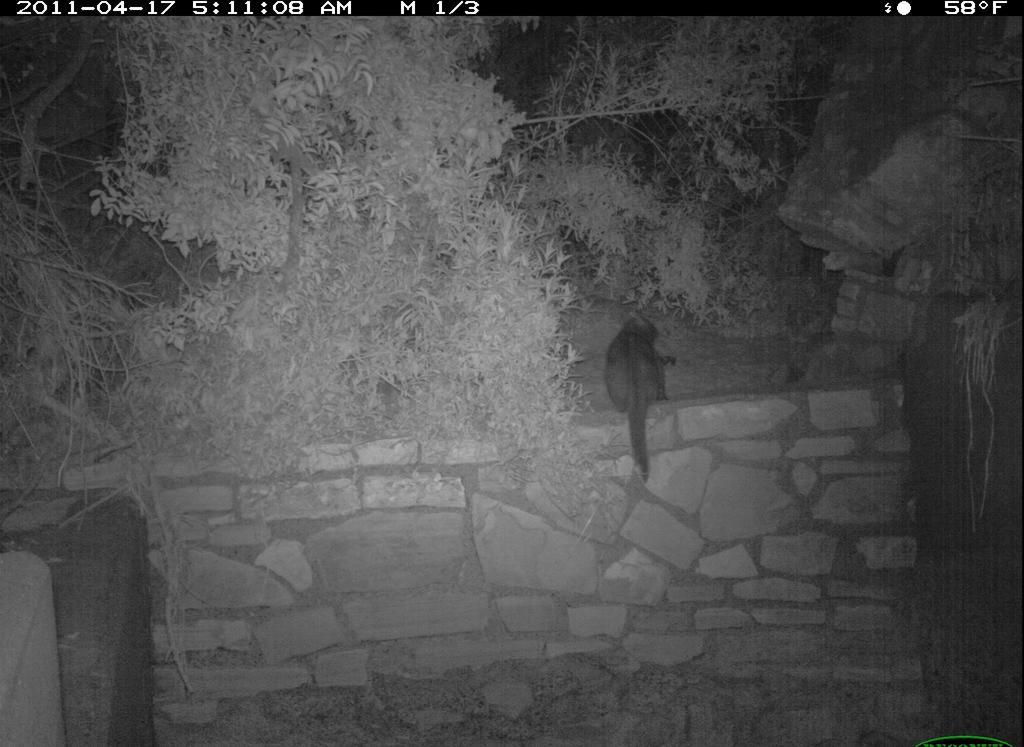cat: (594, 310, 678, 491)
